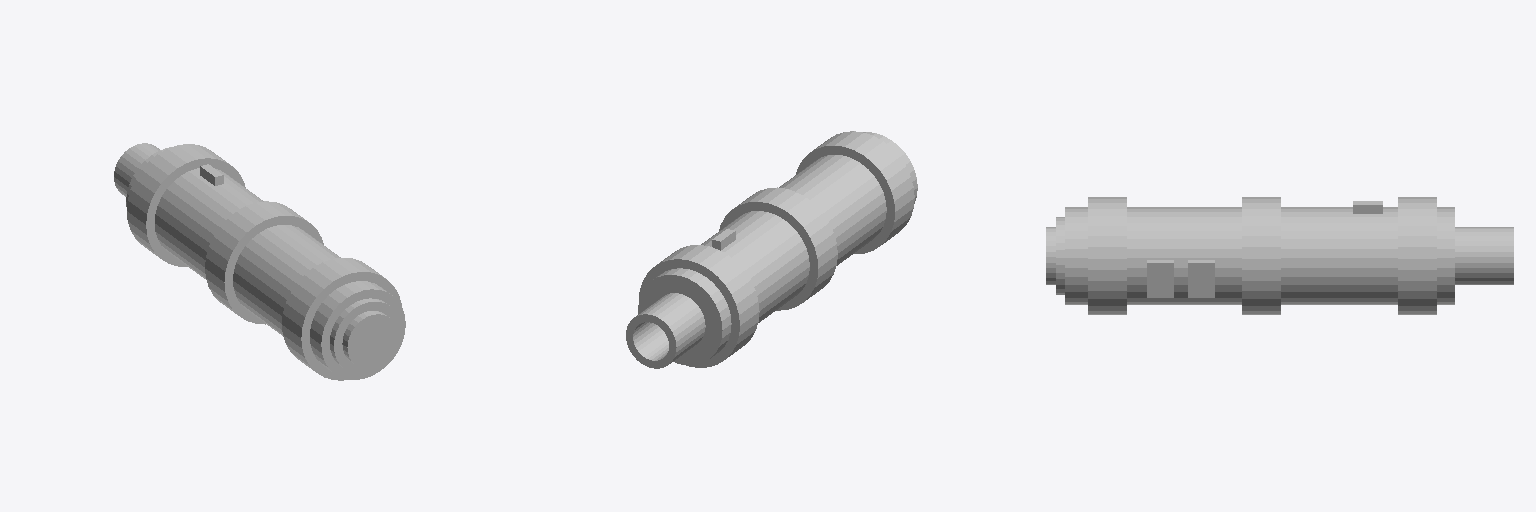
The model's file is laser_base.obj.
The picture shows the model from 3 angles: view 1: azimuth 30°, elevation 25°; view 2: azimuth 150°, elevation 25°; view 3: azimuth 270°, elevation 25°; orthographic projection.
Visible parts, largest first — view 1: LaserBase_Cylinder, Cylinder.006_Cylinder.007, Cylinder.004_Cylinder.005, Cylinder.005_Cylinder.006, Cylinder.003_Cylinder.004, Cylinder.002_Cylinder.003, Cylinder.001_Cylinder.009; view 2: LaserBase_Cylinder, Cylinder.005_Cylinder.006, Cylinder.004_Cylinder.005, Cylinder.006_Cylinder.007, Cylinder.001_Cylinder.009; view 3: LaserBase_Cylinder, Cylinder.004_Cylinder.005, Cylinder.005_Cylinder.006, Cylinder.006_Cylinder.007, Cylinder.001_Cylinder.009, Cube_Cube.001, Cube.001_Cube.002, Cylinder.002_Cylinder.003, Cylinder.003_Cylinder.004.
Boxes of the visible parts, <box> form: LaserBase_Cylinder: <box>126,147,405,379</box>; Cylinder.006_Cylinder.007: <box>282,258,401,380</box>; Cylinder.004_Cylinder.005: <box>205,201,323,324</box>; Cylinder.005_Cylinder.006: <box>127,144,245,266</box>; Cylinder.003_Cylinder.004: <box>342,311,397,368</box>; Cylinder.002_Cylinder.003: <box>330,298,401,373</box>; Cylinder.001_Cylinder.009: <box>114,143,159,196</box>; LaserBase_Cylinder: <box>638,132,917,365</box>; Cylinder.005_Cylinder.006: <box>639,245,759,367</box>; Cylinder.004_Cylinder.005: <box>719,187,837,310</box>; Cylinder.006_Cylinder.007: <box>796,131,914,253</box>; Cylinder.001_Cylinder.009: <box>626,293,705,368</box>; LaserBase_Cylinder: <box>1065,207,1454,304</box>; Cylinder.004_Cylinder.005: <box>1242,197,1280,314</box>; Cylinder.005_Cylinder.006: <box>1398,197,1436,314</box>; Cylinder.006_Cylinder.007: <box>1088,197,1126,314</box>; Cylinder.001_Cylinder.009: <box>1455,227,1513,284</box>; Cube_Cube.001: <box>1188,260,1214,297</box>; Cube.001_Cube.002: <box>1147,260,1173,297</box>; Cylinder.002_Cylinder.003: <box>1056,217,1064,294</box>; Cylinder.003_Cylinder.004: <box>1046,227,1055,284</box>.
Bounding box in the file's own units: 0.6 × 0.6 × 2.39.